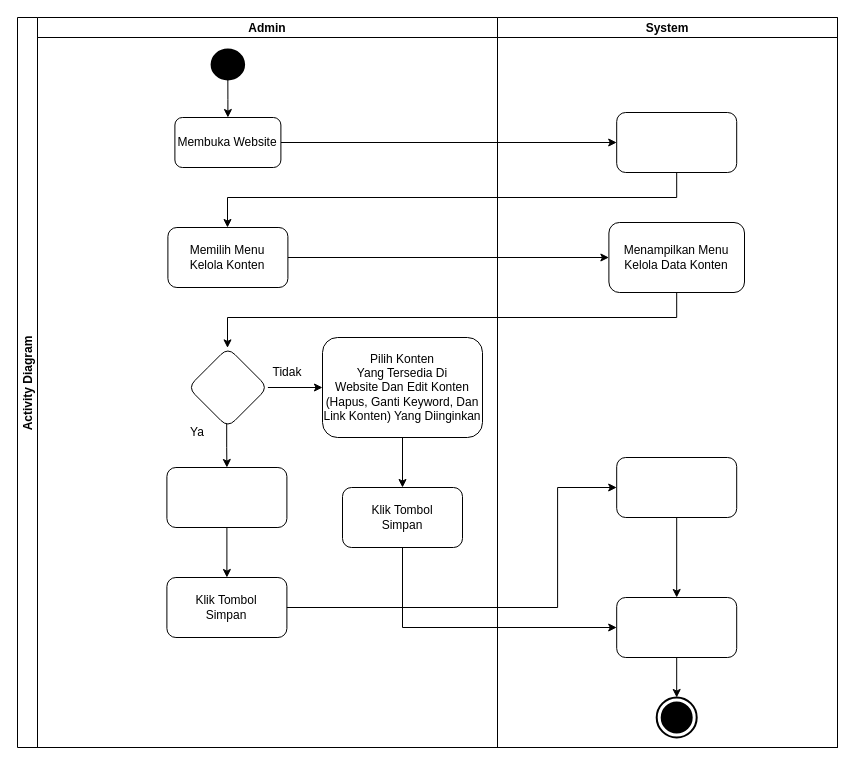
Image size: 855x765. Some labels were removed from this diagram. The centre of each missing label's shape, as x and y in pixels:
Kategori Usia Konten Yang Diinput: pixel 676 487
Masukan Keyword, Dan Link Konten: pixel 226 497
Menampilkan Menu Dashboard: pixel 676 142
Simpan Data: pixel 676 627
Tambah Konten?: pixel 227 387
